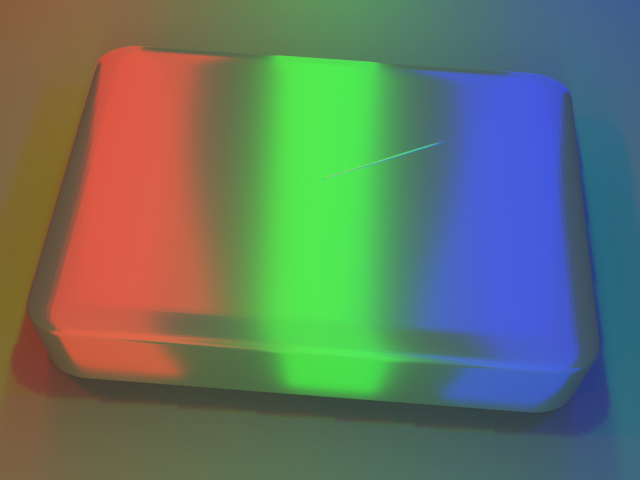scratch: (171, 44, 605, 281)
